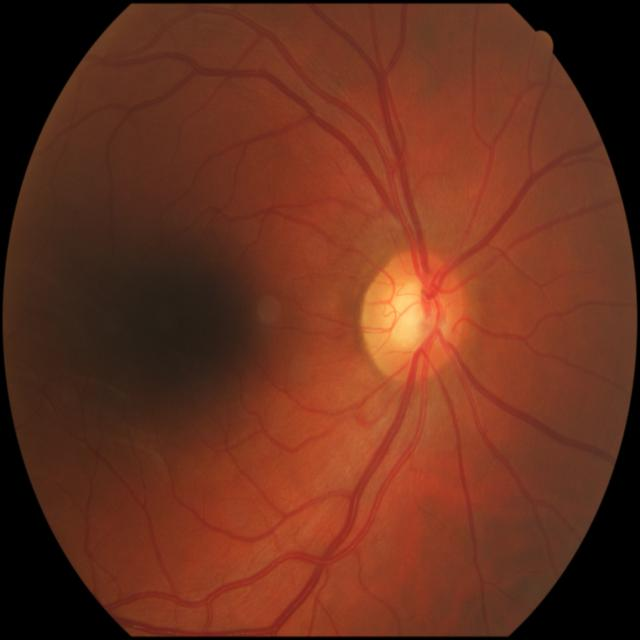OC: (384, 279, 447, 349)
OD: (362, 252, 471, 384)
